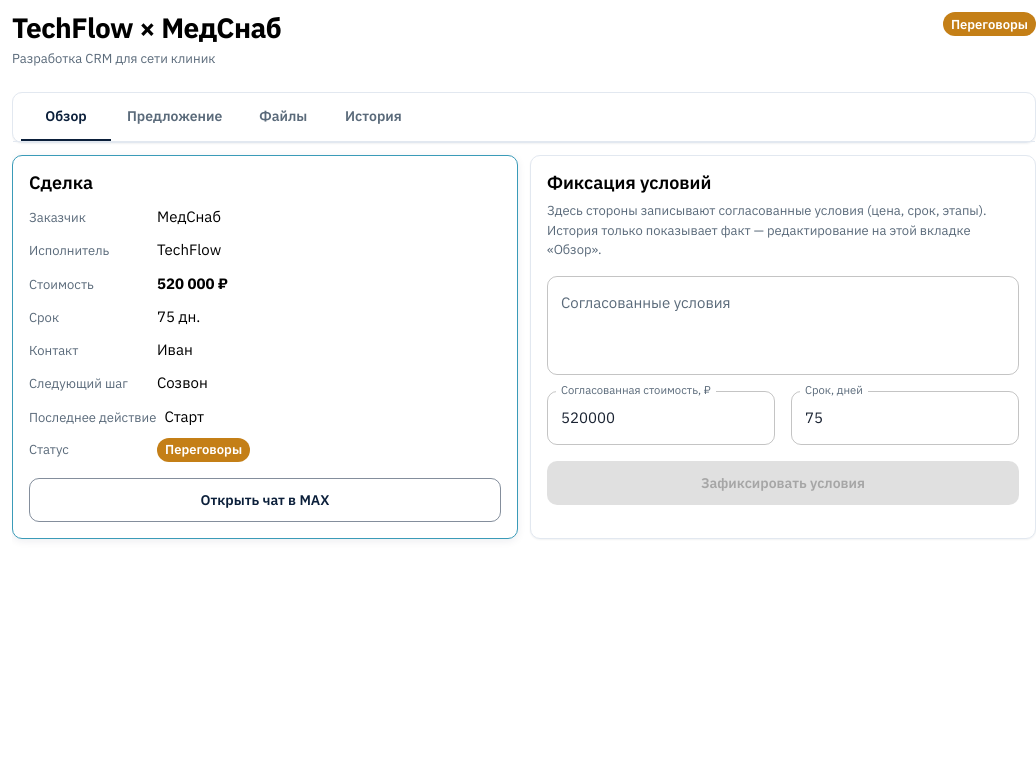
Scenario: DealRoom timeline › [DEAL-10] timeline events are ordered by date
What coordinates should you click on to do the following:
click the tab "История"
I would click on:
 (373, 117)
Its box is [328,93,418,141].
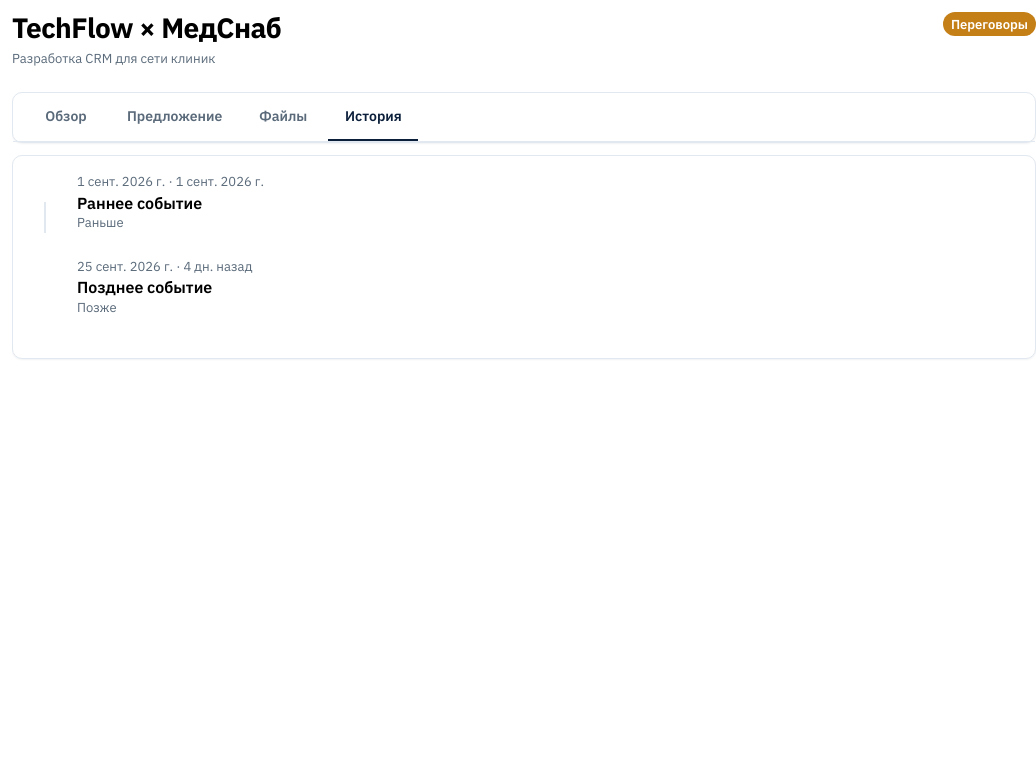
Expected: the headings read "Раннее событие", "Позднее событие", in this order, [77,193,202,213]; [77,277,212,297]
